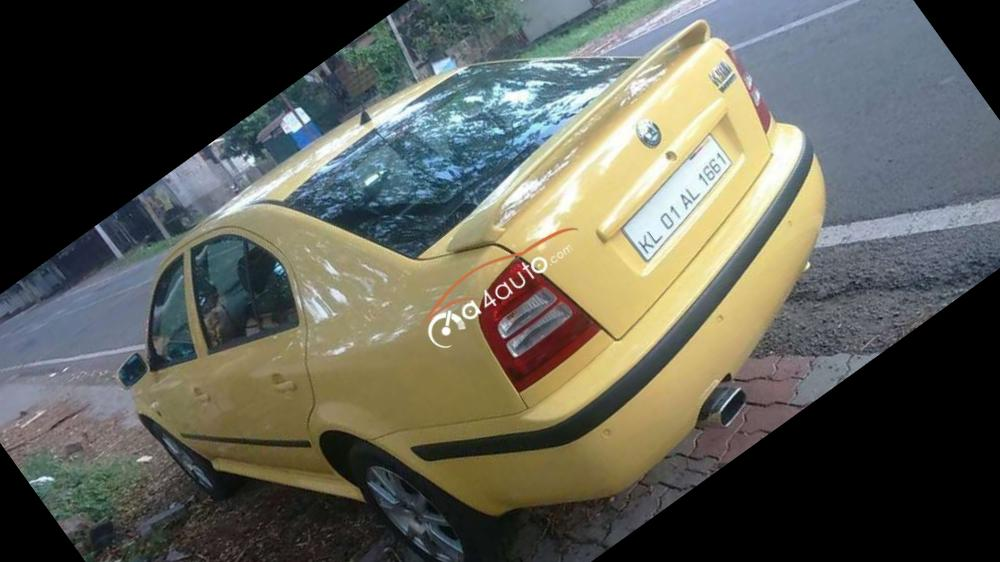plate: (590, 122, 771, 278)
